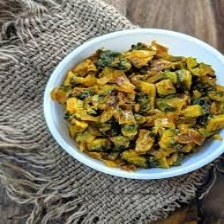sabzi: (50, 40, 224, 172)
